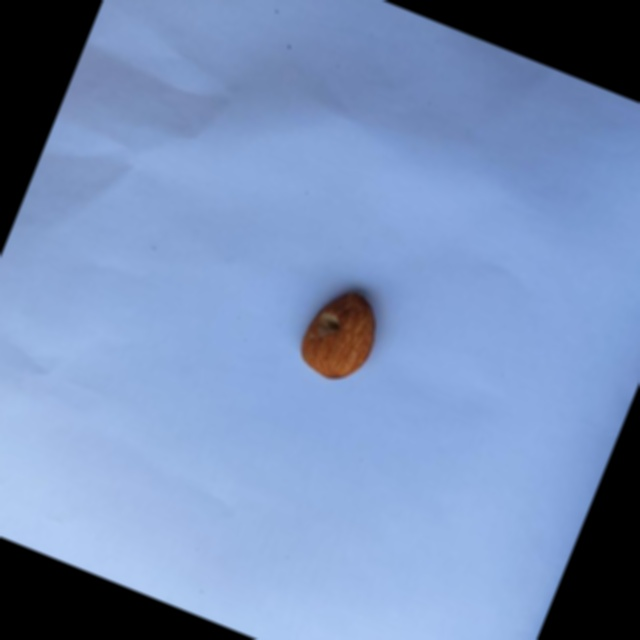grade3: (286, 275, 393, 394)
